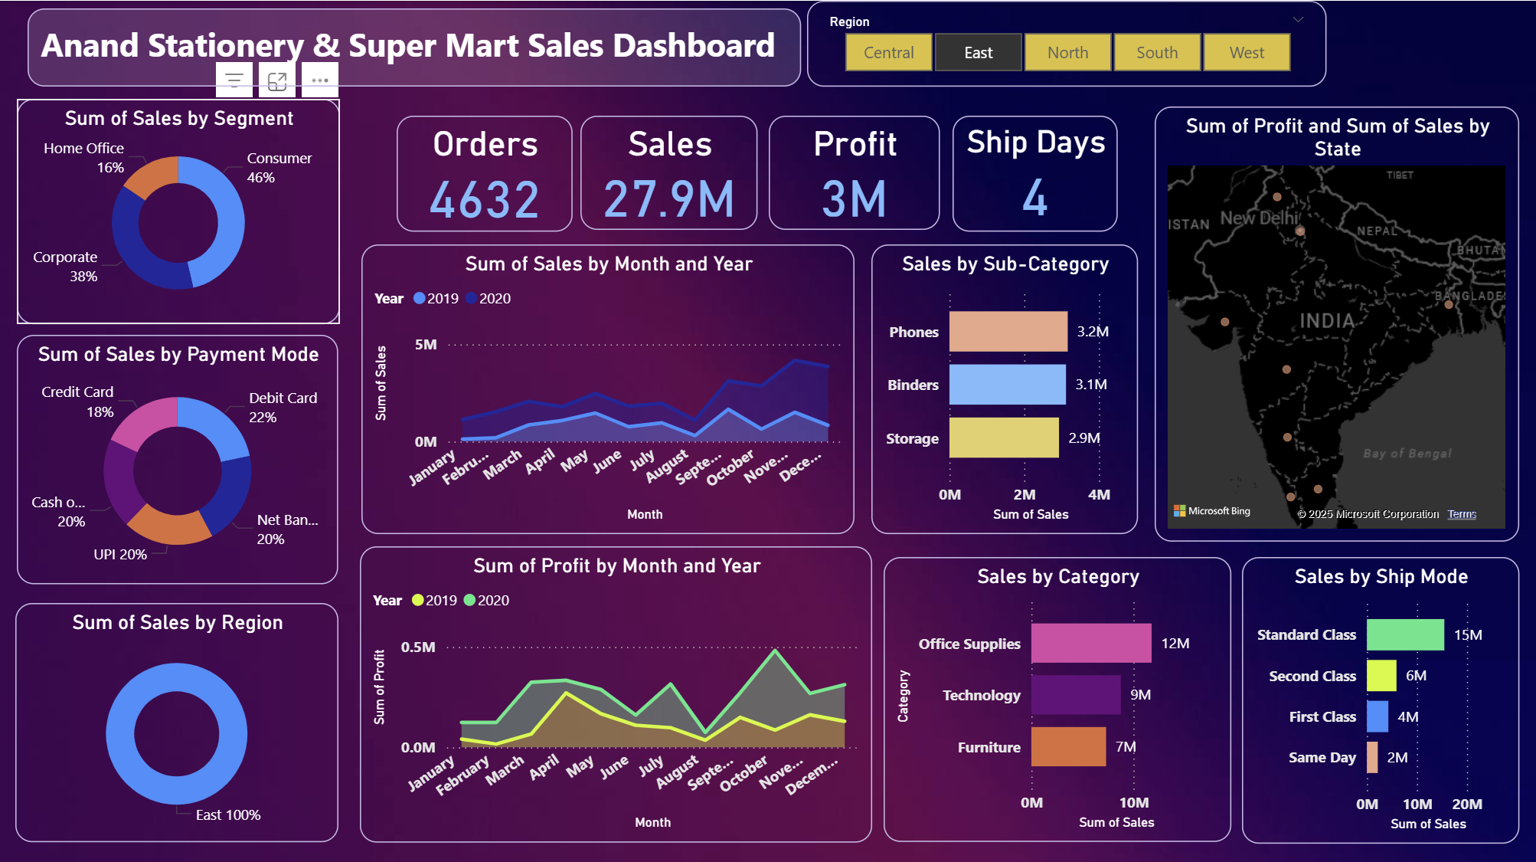

What the dashboard file says about the page in this screenshot:
{"tool":"powerbi","page":{"name":"Page 1","canvas":[1280,720],"ordinal":0},"visuals":[{"type":"clusteredBarChart","title":"Sales by Category","fields":{"Category":["Copy of SuperStore_India_Formatted(1).Category"],"Y":["Sum(Copy of SuperStore_India_Formatted(1).Sales)"]},"box":[735.6,462.8,289.4,237.1],"z":0},{"type":"clusteredBarChart","title":"Sales by Sub-Category","fields":{"Category":["Copy of SuperStore_India_Formatted(1).Sub-Category"],"Y":["Sum(Copy of SuperStore_India_Formatted(1).Sales)"]},"box":[725.4,202.7,221.8,241],"z":1000},{"type":"clusteredBarChart","title":"Sales by Ship Mode","fields":{"Category":["Copy of SuperStore_India_Formatted(1).Ship Mode"],"Y":["Sum(Copy of SuperStore_India_Formatted(1).Sales)"]},"box":[1033.9,462.8,230.8,238.4],"z":2000},{"type":"stackedAreaChart","fields":{"Y":["Sum(Copy of SuperStore_India_Formatted(1).Sales)"],"Series":["Copy of SuperStore_India_Formatted(1).Order Date.Variation.Date Hierarchy.Year"],"Category":["Copy of SuperStore_India_Formatted(1).Order Date.Variation.Date Hierarchy.Month","Copy of SuperStore_India_Formatted(1).Order Date.Variation.Date Hierarchy.Day"]},"box":[300.9,202.7,410.5,241],"z":3000},{"type":"stackedAreaChart","fields":{"Series":["Copy of SuperStore_India_Formatted(1).Order Date.Variation.Date Hierarchy.Year"],"Category":["Copy of SuperStore_India_Formatted(1).Order Date.Variation.Date Hierarchy.Month","Copy of SuperStore_India_Formatted(1).Order Date.Variation.Date Hierarchy.Day"],"Y":["Sum(Copy of SuperStore_India_Formatted(1).Profit)"]},"box":[300,453.8,426.2,246.2],"z":4000},{"type":"map","fields":{"Category":["Copy of SuperStore_India_Formatted(1).State"]},"box":[961.3,88,303.4,362.1],"z":5000},{"type":"donutChart","fields":{"Category":["Copy of SuperStore_India_Formatted(1).Segment"],"Y":["Sum(Copy of SuperStore_India_Formatted(1).Sales)"]},"box":[13.8,81.2,268.8,187.5],"z":6000},{"type":"donutChart","fields":{"Category":["Copy of SuperStore_India_Formatted(1).Payment Mode"],"Y":["Sum(Copy of SuperStore_India_Formatted(1).Sales)"]},"box":[13.8,277.5,267.5,207.5],"z":7000},{"type":"donutChart","fields":{"Category":["Copy of SuperStore_India_Formatted(1).Region"],"Y":["Sum(Copy of SuperStore_India_Formatted(1).Sales)"]},"box":[12.5,501.2,268.8,198.8],"z":8000},{"type":"slicer","fields":{"Values":["Copy of SuperStore_India_Formatted(1).Region"]},"box":[672.5,0,432.5,71.2],"z":9000},{"type":"textbox","box":[22.5,6.2,643.8,65],"z":10000},{"type":"card","title":"Sales","fields":{"Values":["Sum(Copy of SuperStore_India_Formatted(1).Sales)"]},"box":[483.8,96.2,147.5,95],"z":11000},{"type":"card","title":"Orders","fields":{"Values":["Sum(Copy of SuperStore_India_Formatted(1).Quantity)"]},"box":[330,95,146.2,96.2],"z":12000},{"type":"card","title":"Profit","fields":{"Values":["Sum(Copy of SuperStore_India_Formatted(1).Profit)"]},"box":[640,96.2,142.5,95],"z":13000},{"type":"card","title":"Ship Days","fields":{"Values":["Avg(Copy of SuperStore_India_Formatted(1).AvgDelivery)"]},"box":[792.5,95,137.5,96.2],"z":14000}]}

Visuals, with their boxes in screenshot pixels (x1, y1, x2, y2), scaled from the page's 1280x720 canvas onto the 1536x862 screenshot:
"Sales by Category" clusteredBarChart: 883:554:1230:838
"Sales by Sub-Category" clusteredBarChart: 870:243:1137:531
"Sales by Ship Mode" clusteredBarChart: 1241:554:1518:839
stackedAreaChart - Sum(Copy of SuperStore_India_Formatted(1).Sales) x Copy of SuperStore_India_Formatted(1).Order Date.Variation.Date Hierarchy.Year: 361:243:854:531
stackedAreaChart - Copy of SuperStore_India_Formatted(1).Order Date.Variation.Date Hierarchy.Year x Copy of SuperStore_India_Formatted(1).Order Date.Variation.Date Hierarchy.Month: 360:543:871:838
map - Copy of SuperStore_India_Formatted(1).State: 1154:105:1518:539
donutChart - Copy of SuperStore_India_Formatted(1).Segment x Sum(Copy of SuperStore_India_Formatted(1).Sales): 17:97:339:322
donutChart - Copy of SuperStore_India_Formatted(1).Payment Mode x Sum(Copy of SuperStore_India_Formatted(1).Sales): 17:332:338:581
donutChart - Copy of SuperStore_India_Formatted(1).Region x Sum(Copy of SuperStore_India_Formatted(1).Sales): 15:600:338:838
slicer - Copy of SuperStore_India_Formatted(1).Region: 807:0:1326:85
textbox: 27:7:800:85
"Sales" card: 581:115:758:229
"Orders" card: 396:114:571:229
"Profit" card: 768:115:939:229
"Ship Days" card: 951:114:1116:229
